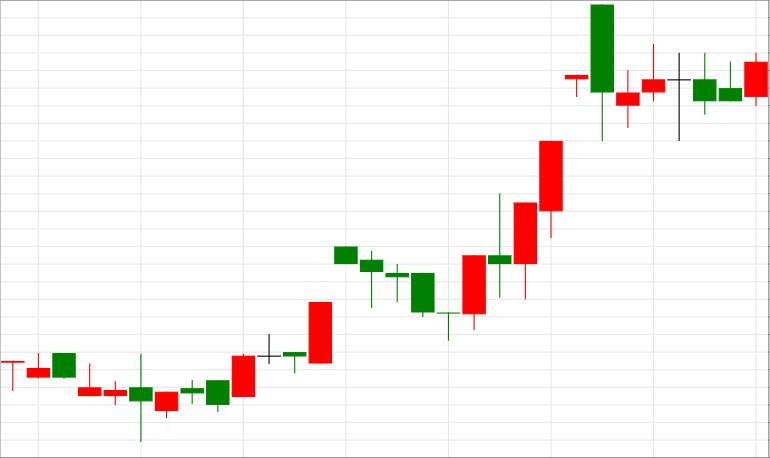bearish_engulfing_fall: (463, 5, 614, 330)
morning_star_rise: (335, 246, 486, 341)
